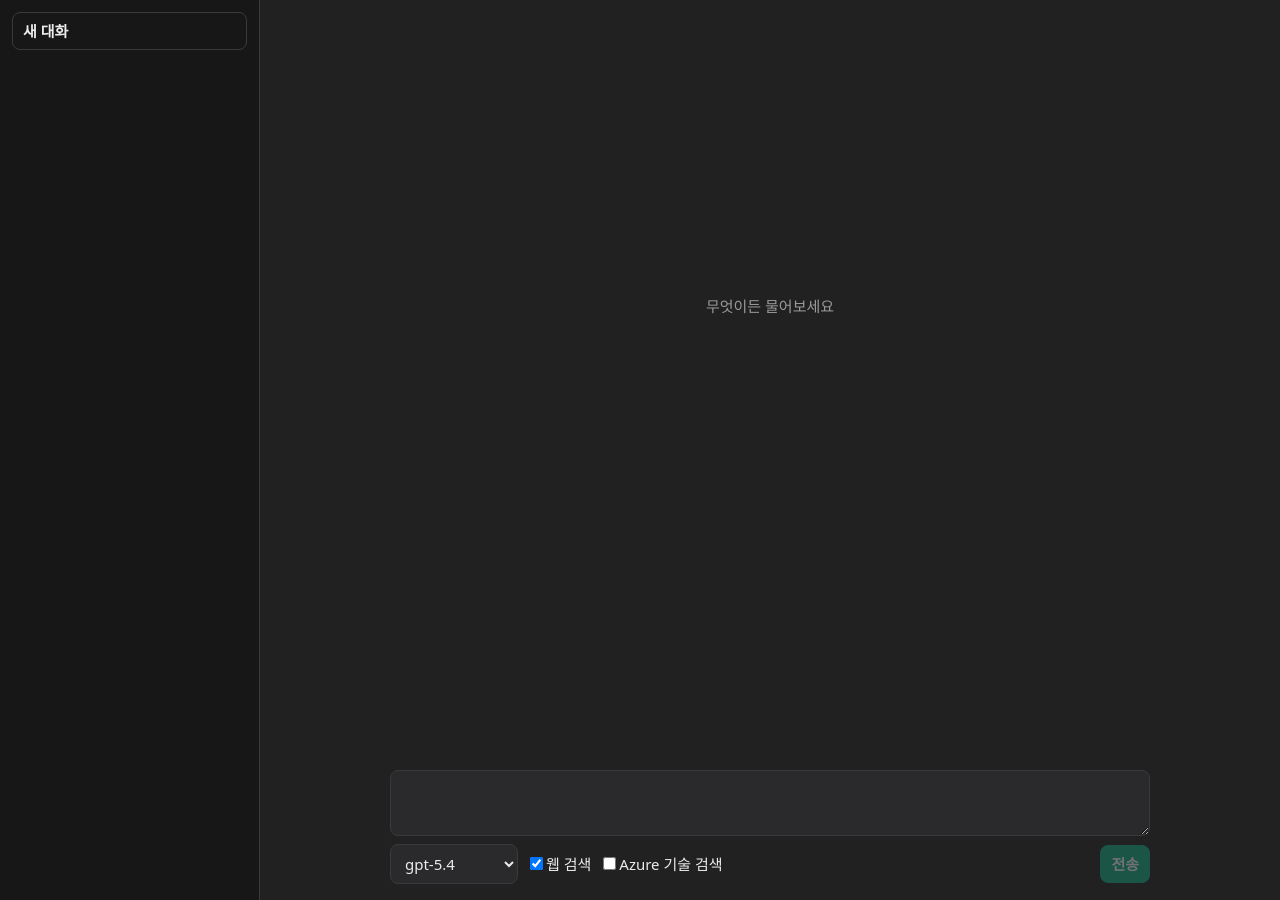
Test: refreshes the sidebar after sending a message
This screenshot has width=1280, height=900.
Type "안녕" into the text box. click: {"x": 770, "y": 803}
box: [390, 770, 1150, 836]
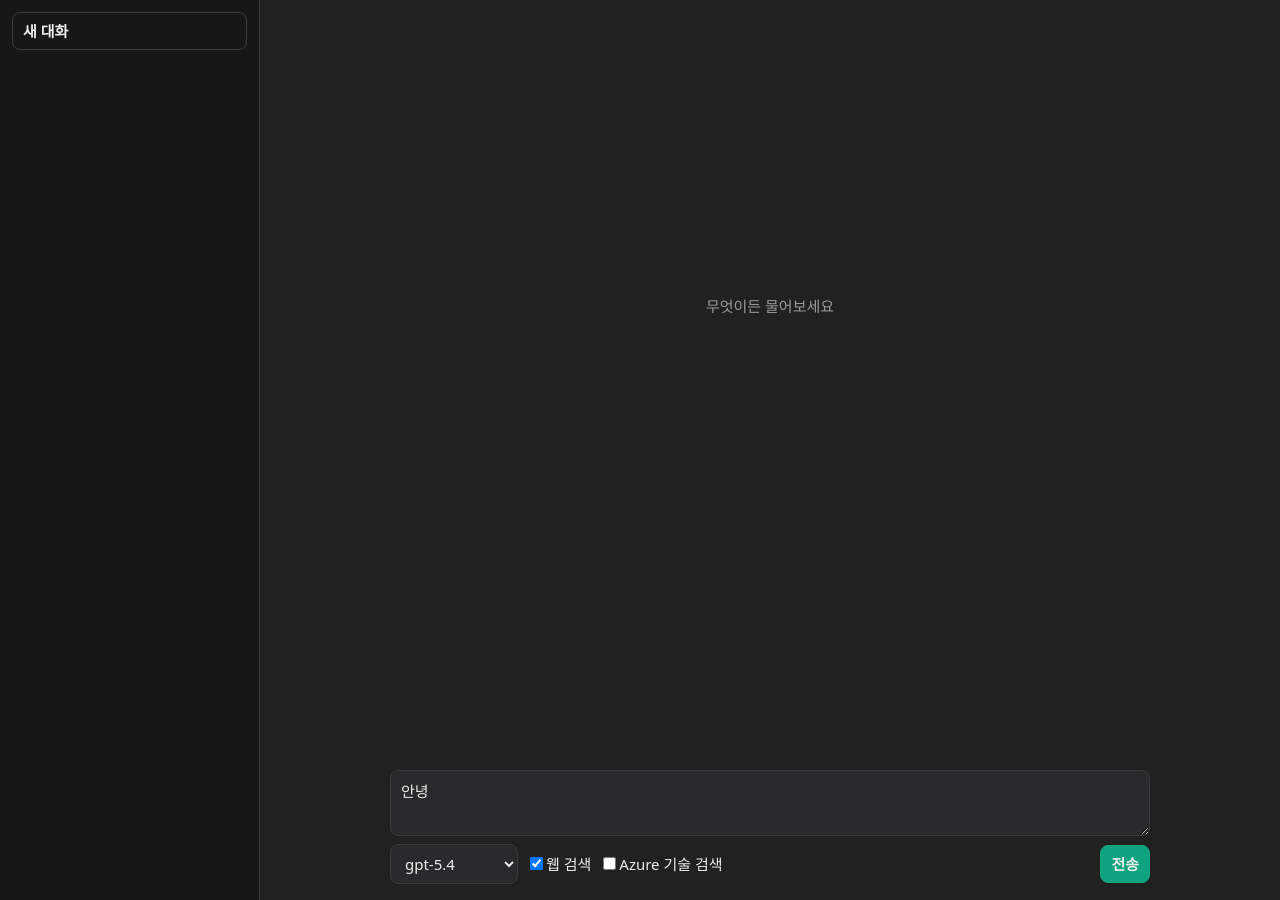
Press Enter in the text box, box [390, 770, 1150, 836]
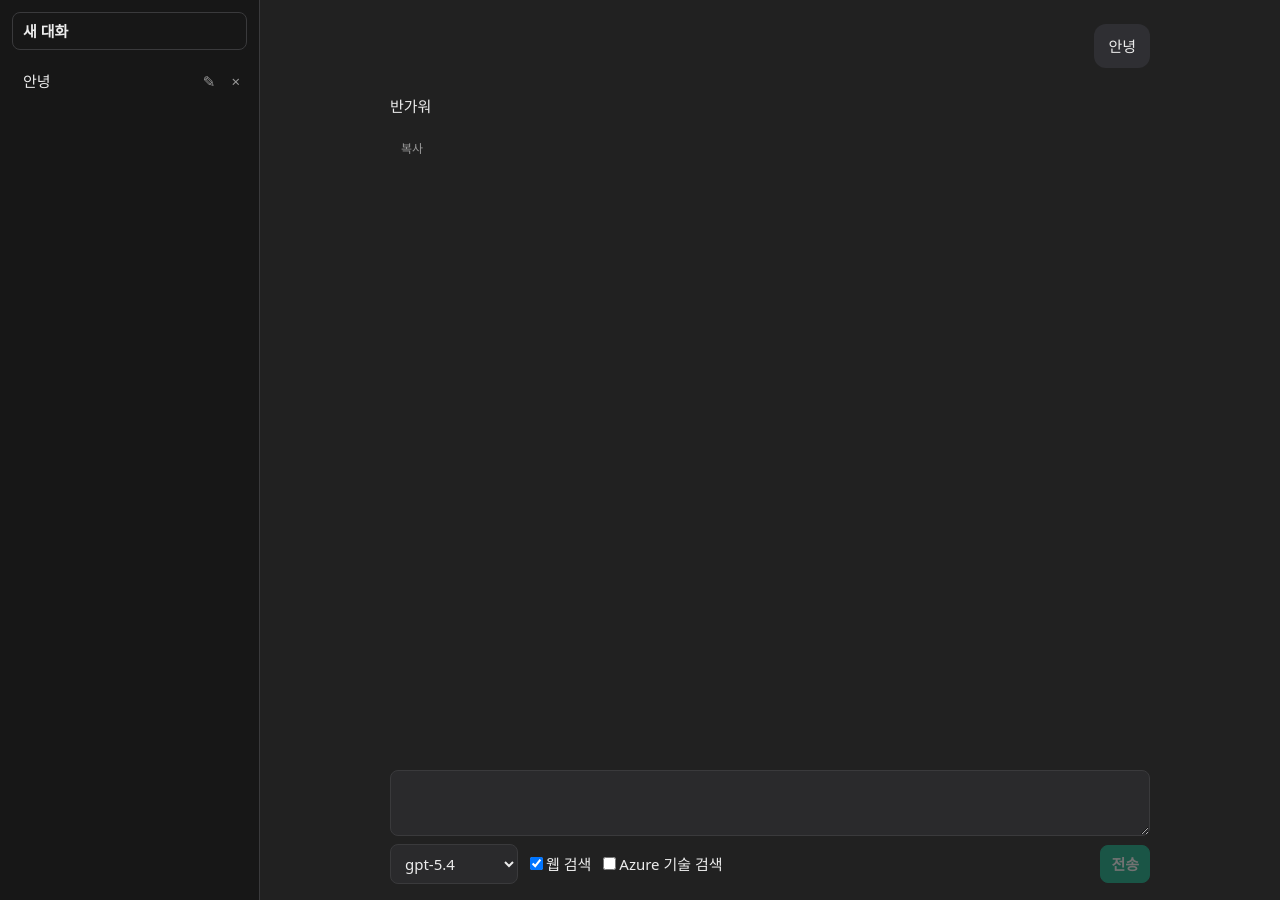
Expected: the button "안녕" is shown, [12, 62, 194, 100]
